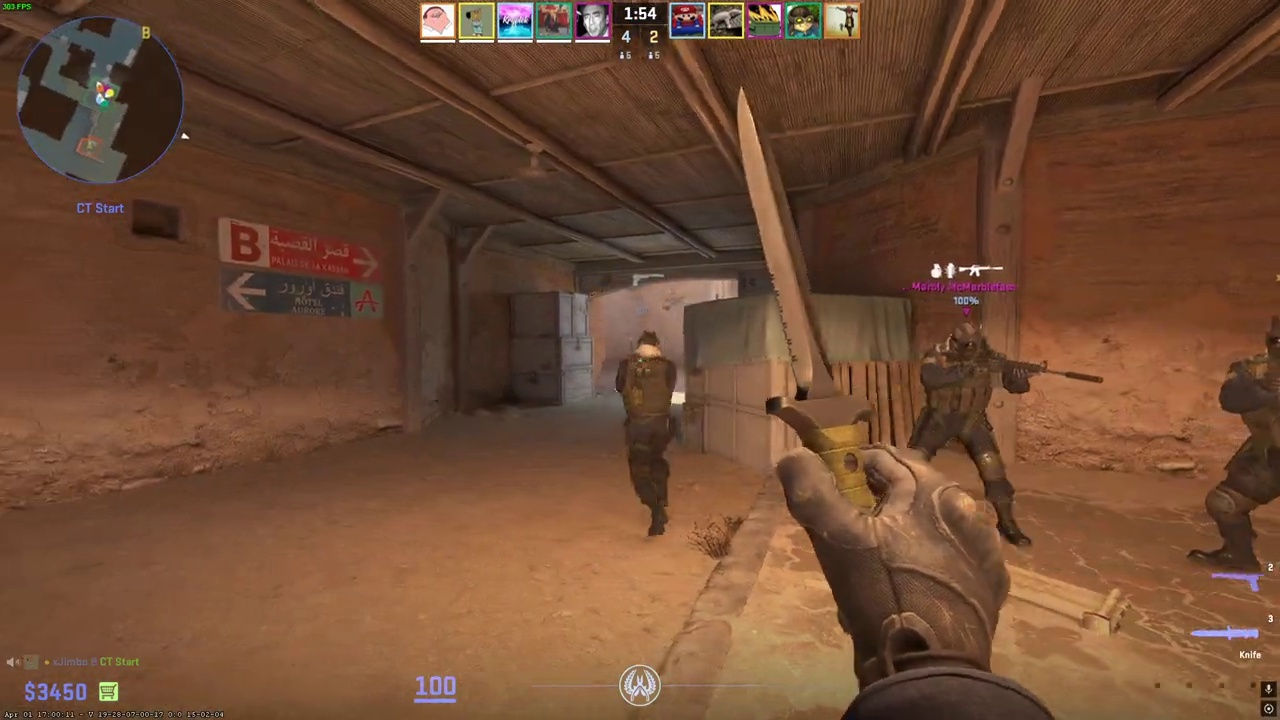CT: (907, 320, 1034, 547), (1194, 317, 1280, 571), (615, 330, 677, 535)
